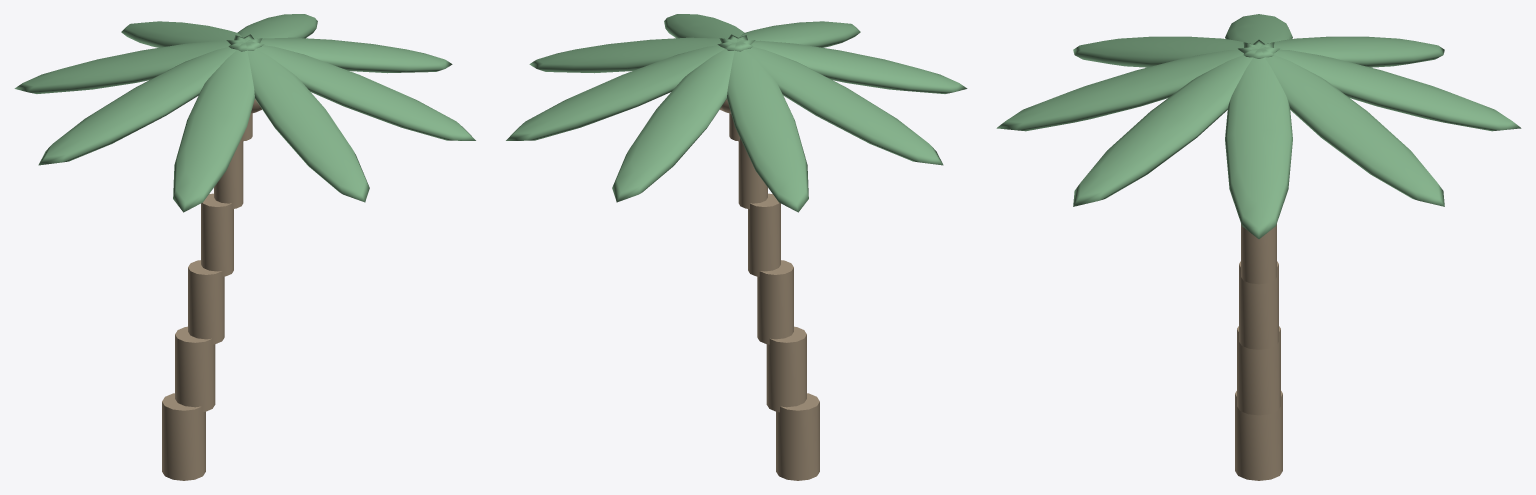
The model's file is palm.glb.
3 renders of one model, left to right at view 1: azimuth 30°, elevation 25°; view 2: azimuth 150°, elevation 25°; view 3: azimuth 270°, elevation 25°, orthographic. The views are drawn at different scales.
Visible parts, largest first — view 1: palm_Palette; view 2: palm_Palette; view 3: palm_Palette.
Boxes of the visible parts, box(x1,y1,x2,y2) form: palm_Palette: box(14, 14, 475, 480); palm_Palette: box(506, 14, 967, 480); palm_Palette: box(996, 14, 1521, 480).
Size of the model in its own units: 3.71 by 3.55 by 3.71.
